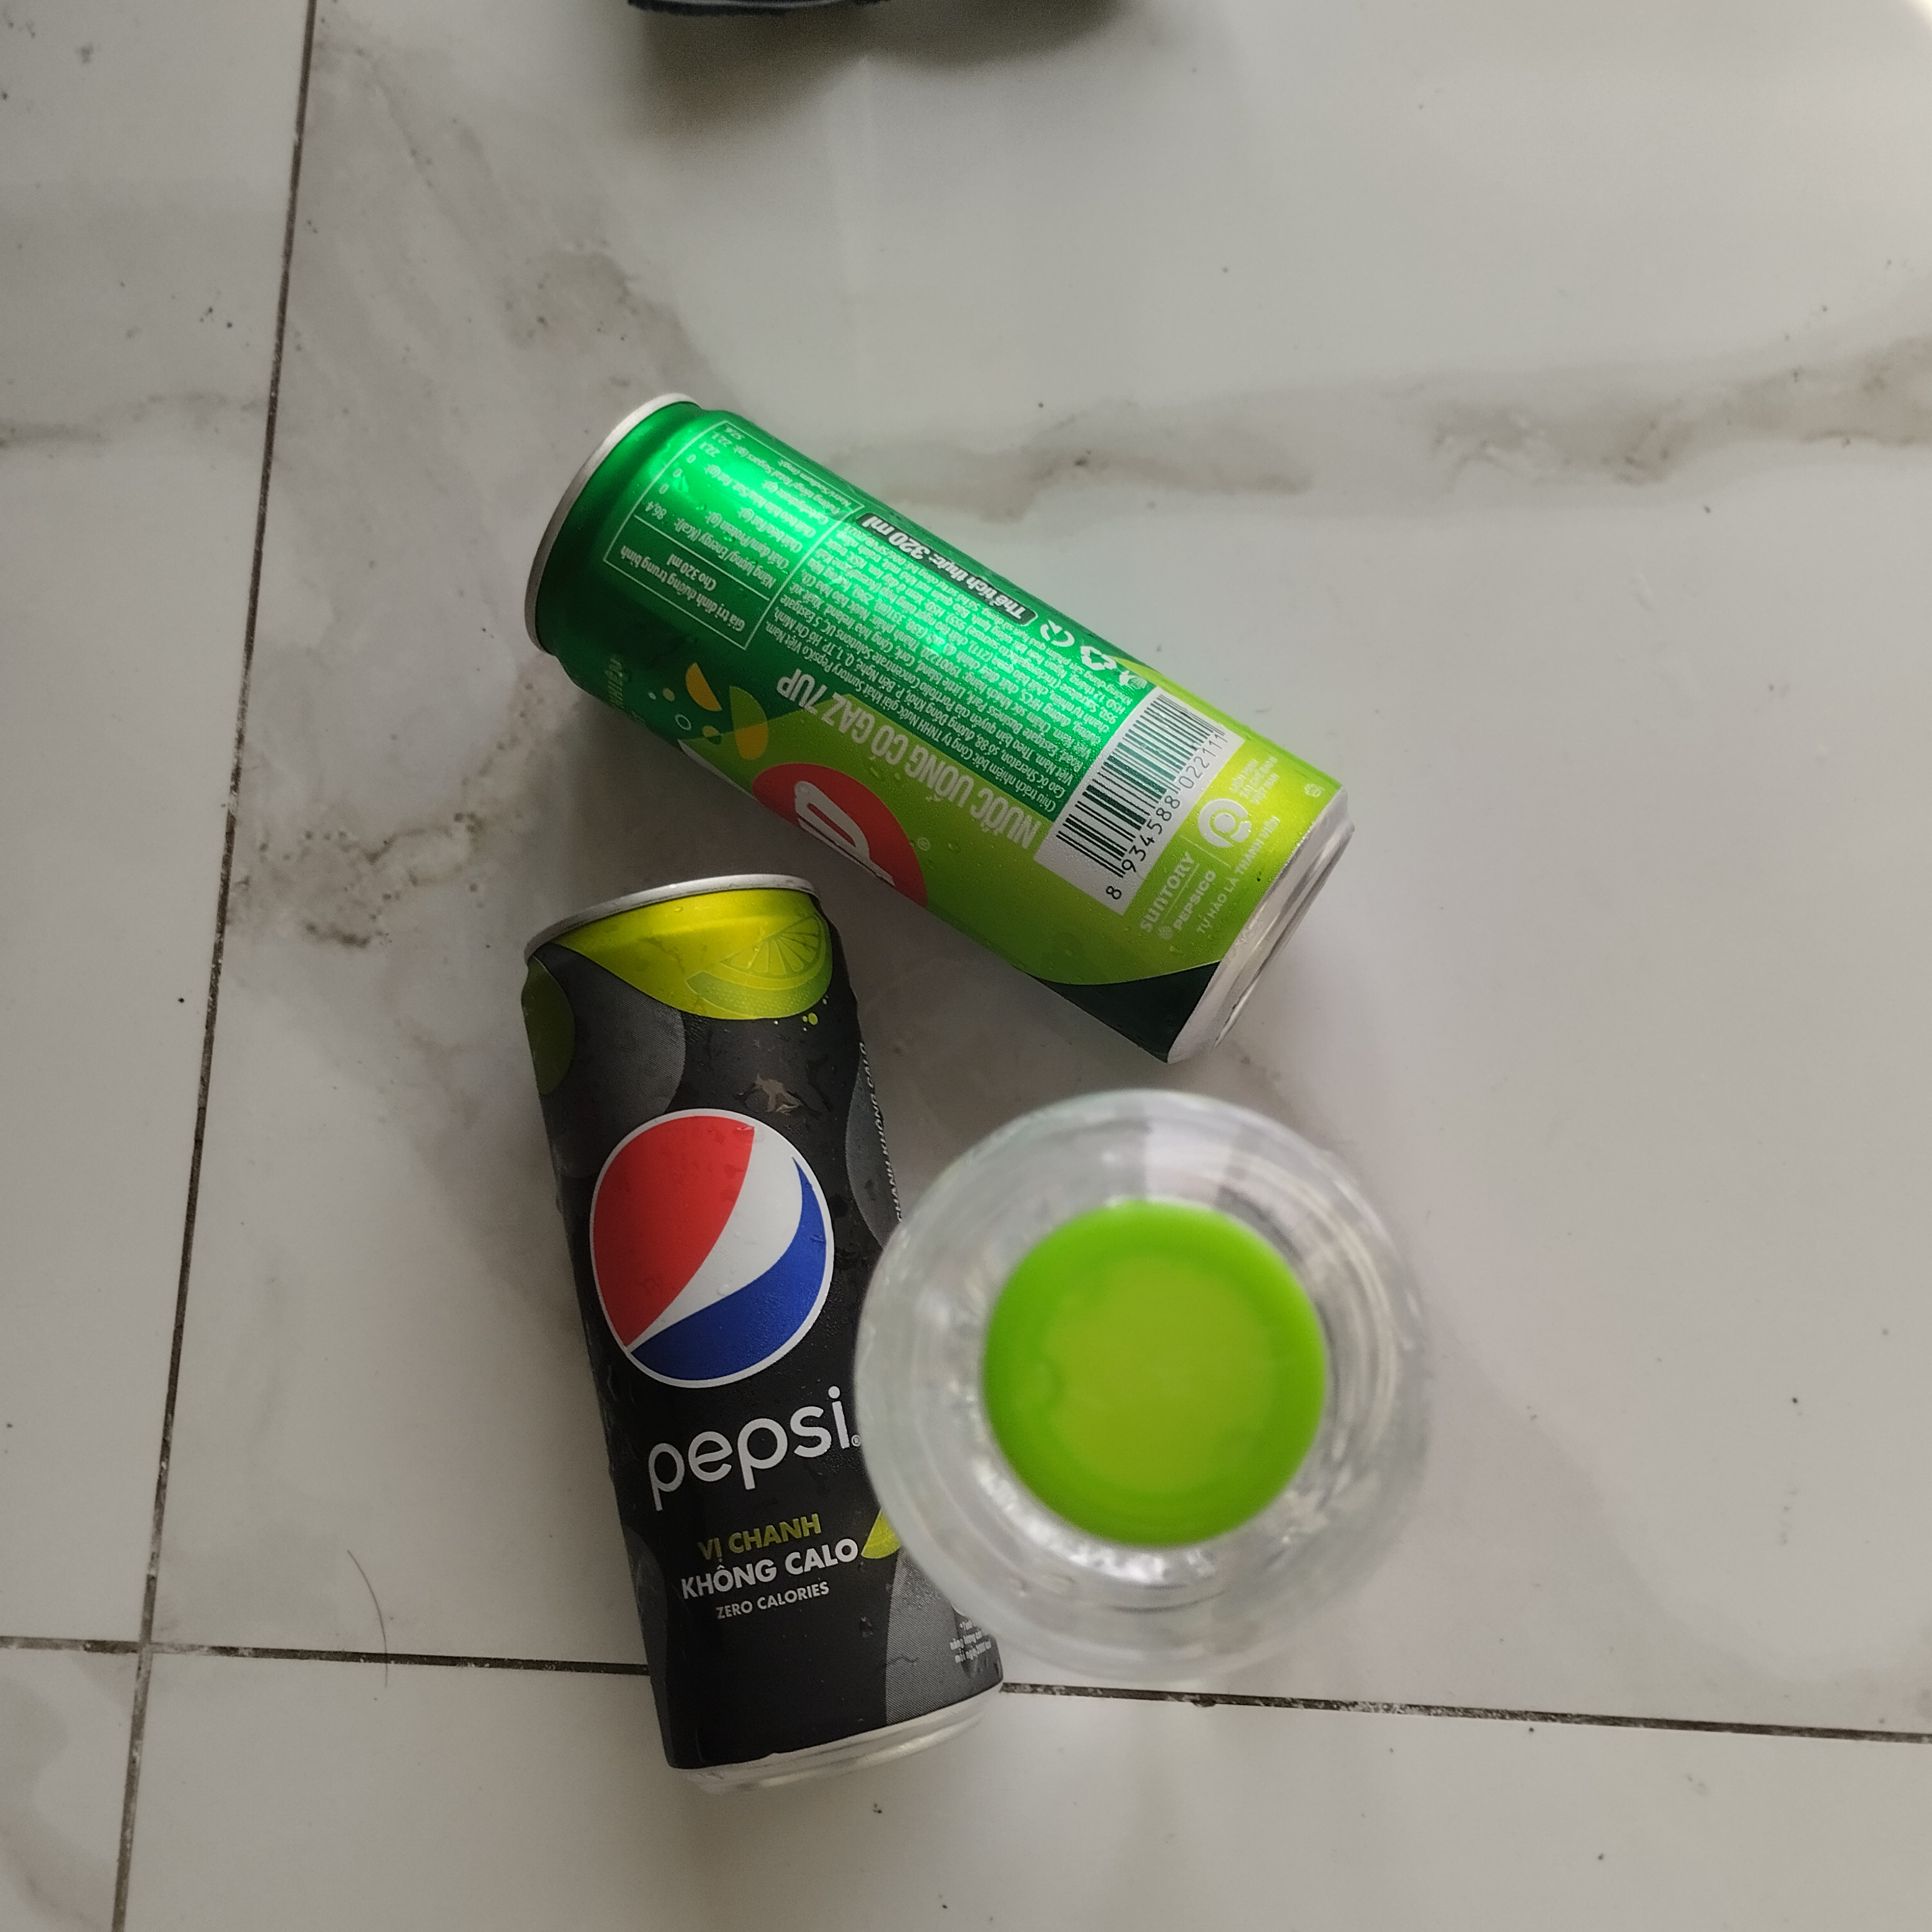7up: (520, 395, 1373, 1086)
Dasani: (849, 1074, 1437, 1684)
Pepsi: (501, 867, 1007, 1813)
